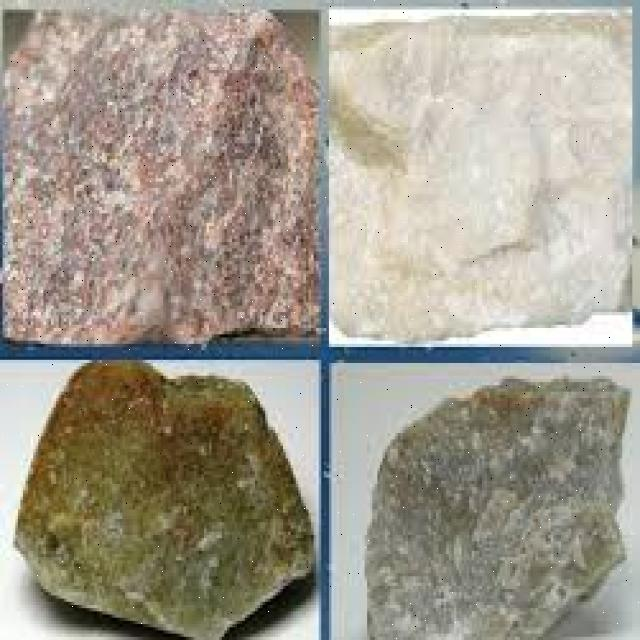Metamorphic: (2, 3, 318, 341), (329, 12, 632, 340), (13, 357, 316, 627), (357, 372, 627, 634)
